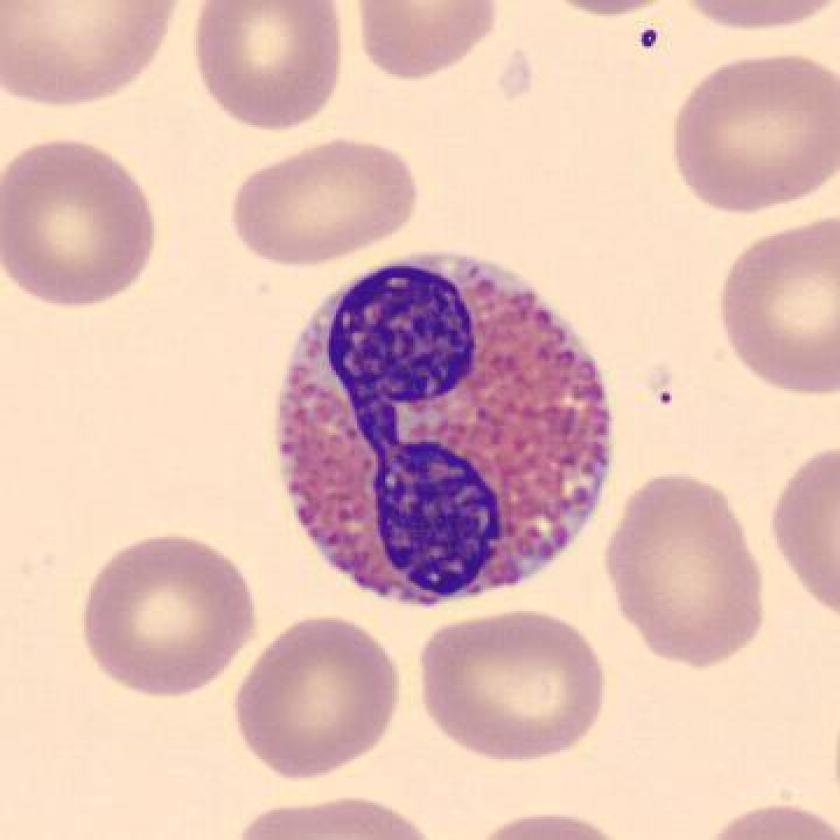eosinophil: (265, 240, 626, 617)
